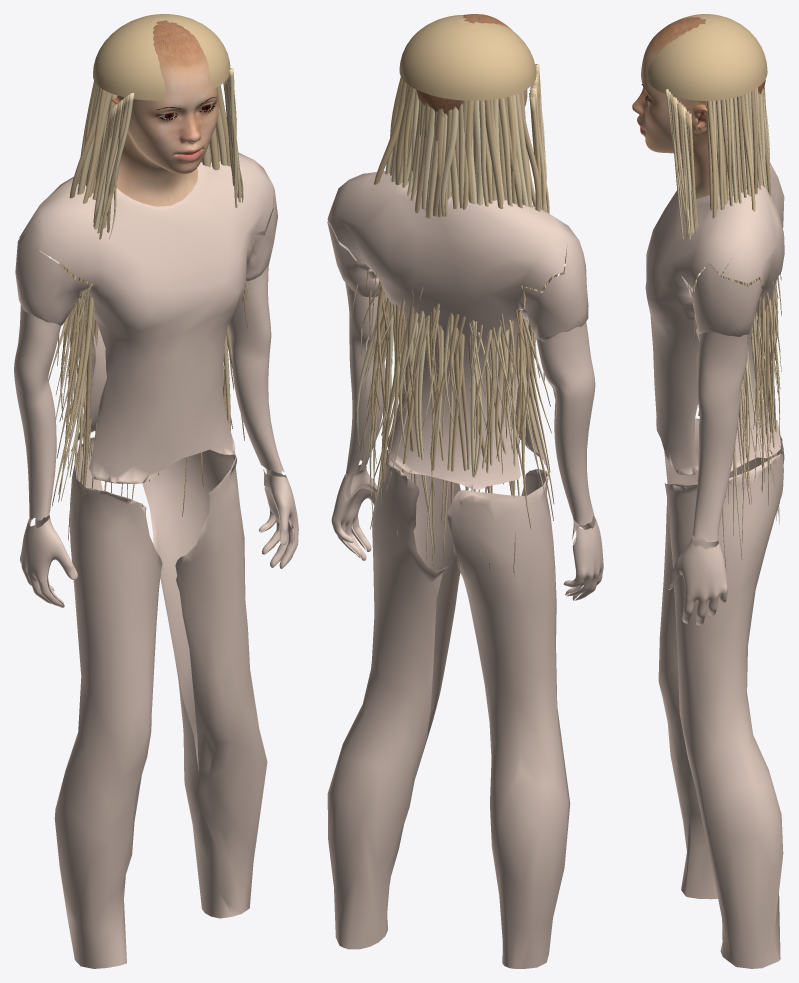
Rendered from riley-blonde-standing.glb.
3 renders of one model, left to right at view 1: azimuth 30°, elevation 25°; view 2: azimuth 150°, elevation 25°; view 3: azimuth 270°, elevation 25°, orthographic. The views are drawn at different scales.
Visible parts, largest first — view 1: female_casualsuit01, Riley | anatomical body; view 2: female_casualsuit01, Riley | anatomical body; view 3: female_casualsuit01, Riley | anatomical body.
Boxes of the visible parts, x1,y1,x2,y2 form: female_casualsuit01: (15, 152, 277, 968); Riley | anatomical body: (14, 14, 298, 607); female_casualsuit01: (327, 171, 588, 968); Riley | anatomical body: (331, 14, 603, 600); female_casualsuit01: (645, 163, 784, 968); Riley | anatomical body: (632, 14, 781, 625).
Size of the model in its own units: 0.4644 by 1.55 by 0.2388.
10 materials, 5 textured.
